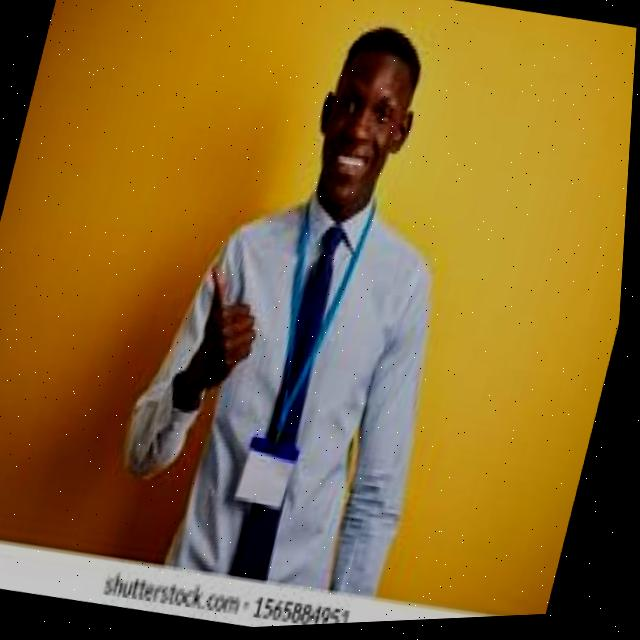id_card: (231, 207, 380, 526)
